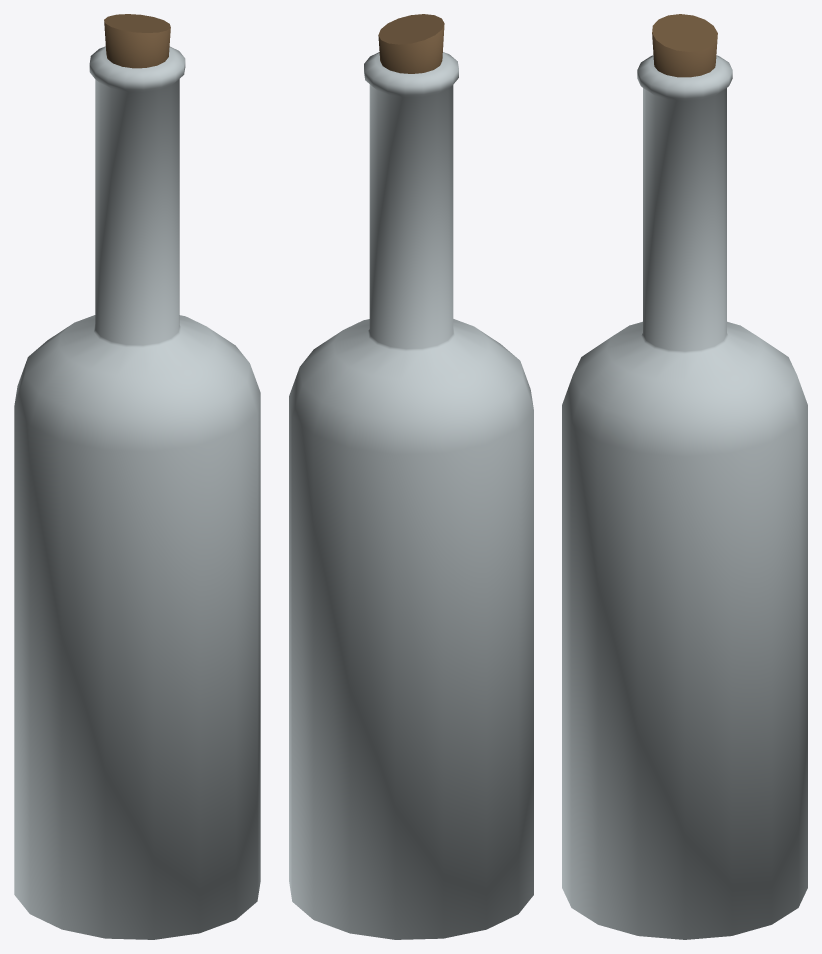
The model's file is Garrafa.gltf.
3 renders of one model, left to right at view 1: azimuth 30°, elevation 25°; view 2: azimuth 150°, elevation 25°; view 3: azimuth 270°, elevation 25°, orthographic.
Visible parts, largest first — view 1: Garrafa; view 2: Garrafa; view 3: Garrafa.
Boxes of the visible parts, x1,y1,x2,y2 form: Garrafa: (14,14,260,939); Garrafa: (289,14,533,939); Garrafa: (562,14,807,939).
Size of the model in its own units: 1.77 by 6.83 by 1.77.
